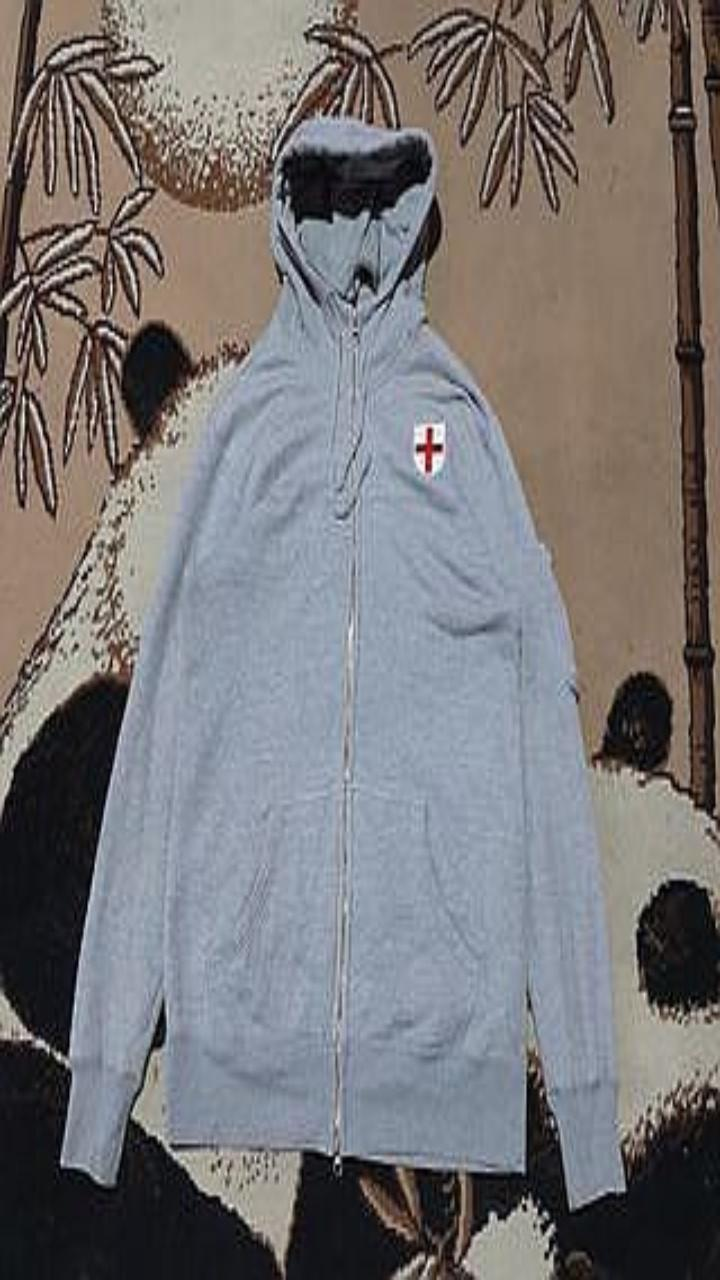Sports_Jacket: (60, 116, 625, 1207)
